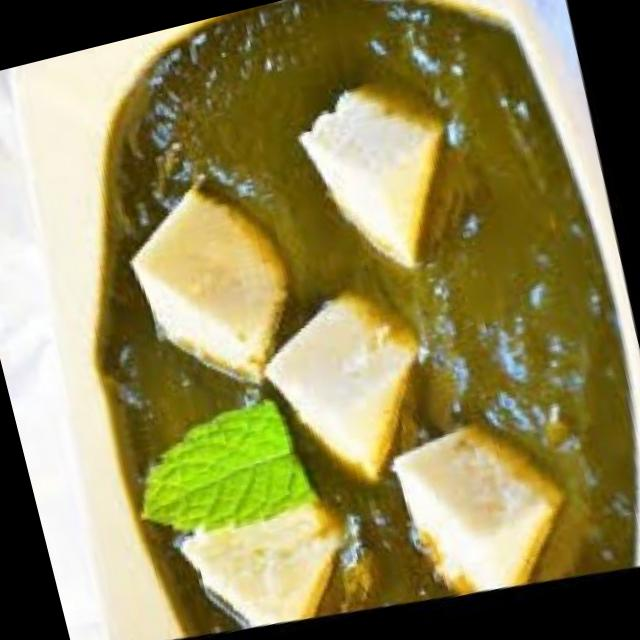palak_paneer: (17, 0, 640, 640)
